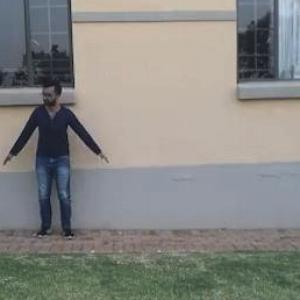land: (13, 71, 123, 257)
